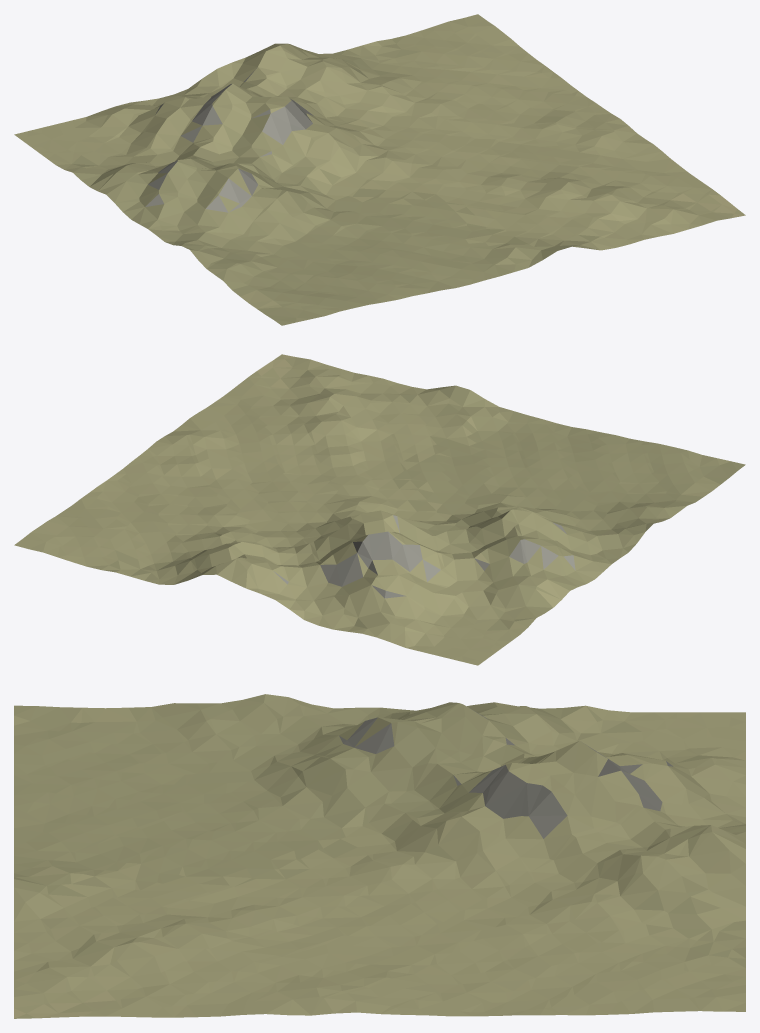
The model's file is Ground_6_-9.glb.
The picture shows the model from 3 angles, top to bottom: view 1: azimuth 30°, elevation 25°; view 2: azimuth 150°, elevation 25°; view 3: azimuth 270°, elevation 25°; orthographic projection. The views are drawn at different scales.
Visible parts, largest first — view 1: Ground_6_-9; view 2: Ground_6_-9; view 3: Ground_6_-9.
Boxes of the visible parts, left/top/right/bottom form: Ground_6_-9: left=14, top=14, right=745, bottom=325; Ground_6_-9: left=14, top=354, right=745, bottom=665; Ground_6_-9: left=14, top=694, right=745, bottom=1018.
Bounding box in the file's own units: 768 × 83.52 × 768.
